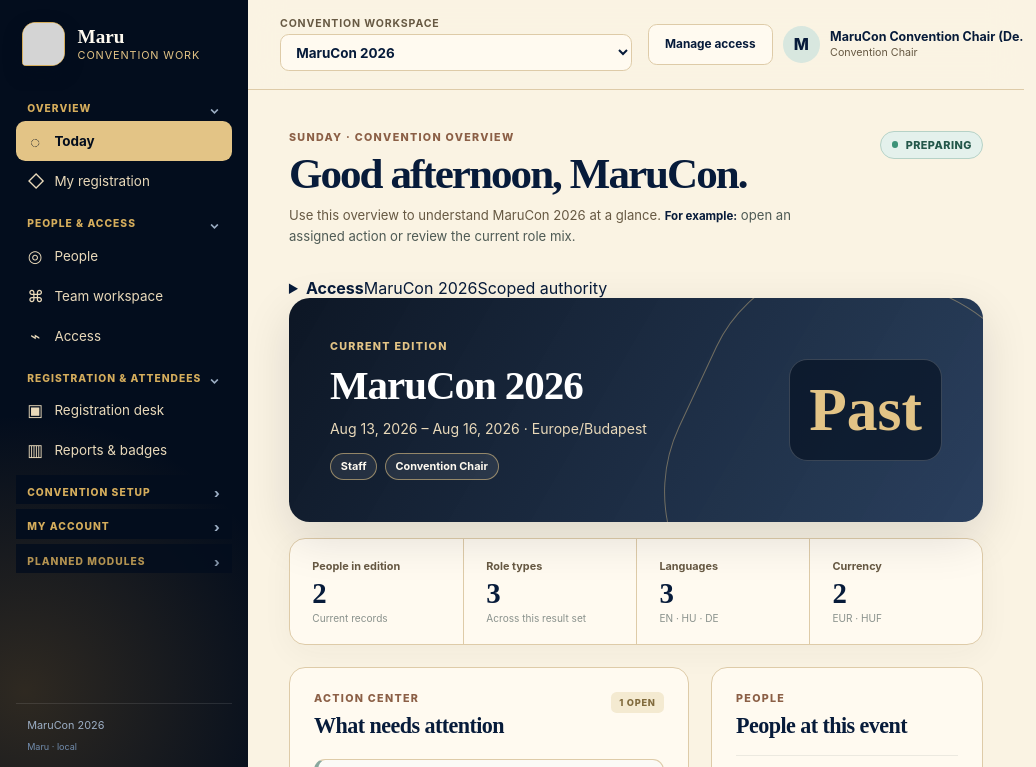
Scenario: Management Console › fails closed when the role cannot view Workforce structure
The width and height of the screenshot is (1036, 767).
expect the heading "MaruCon 2026" is shown: met, box [330,362,583,408]
Click the button "⌘ Team workspace" at (124, 296), box [16,276,232,316]
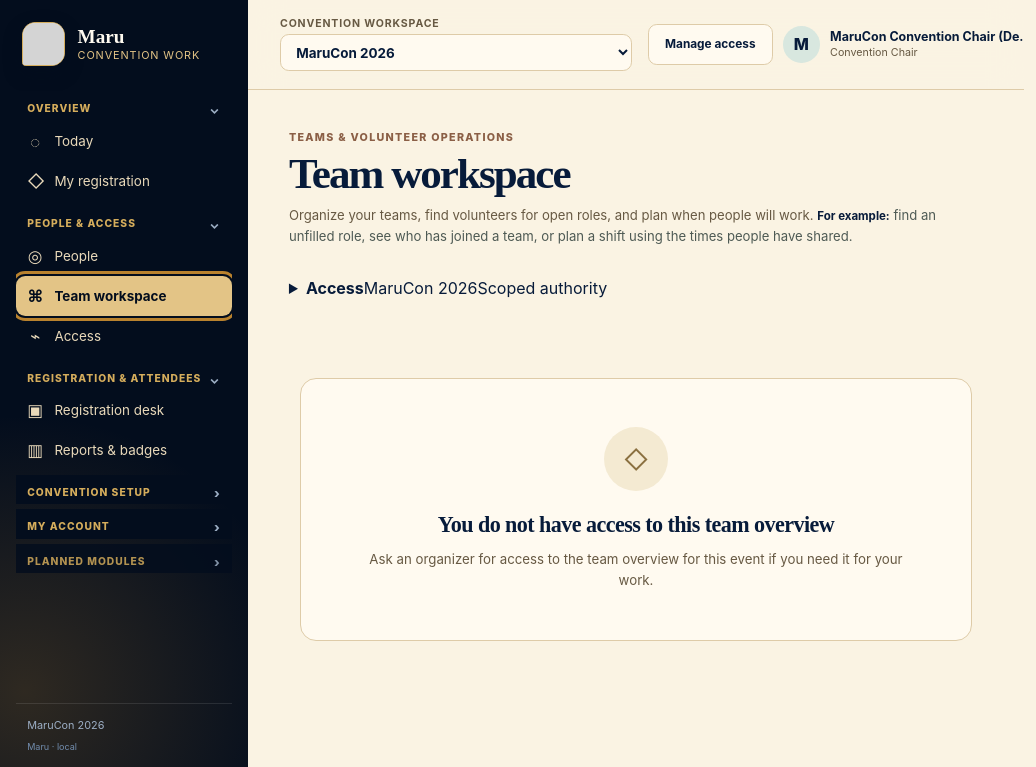
expect the heading "You do not have access to this team overview" is shown: met, box [438,512,834,537]
